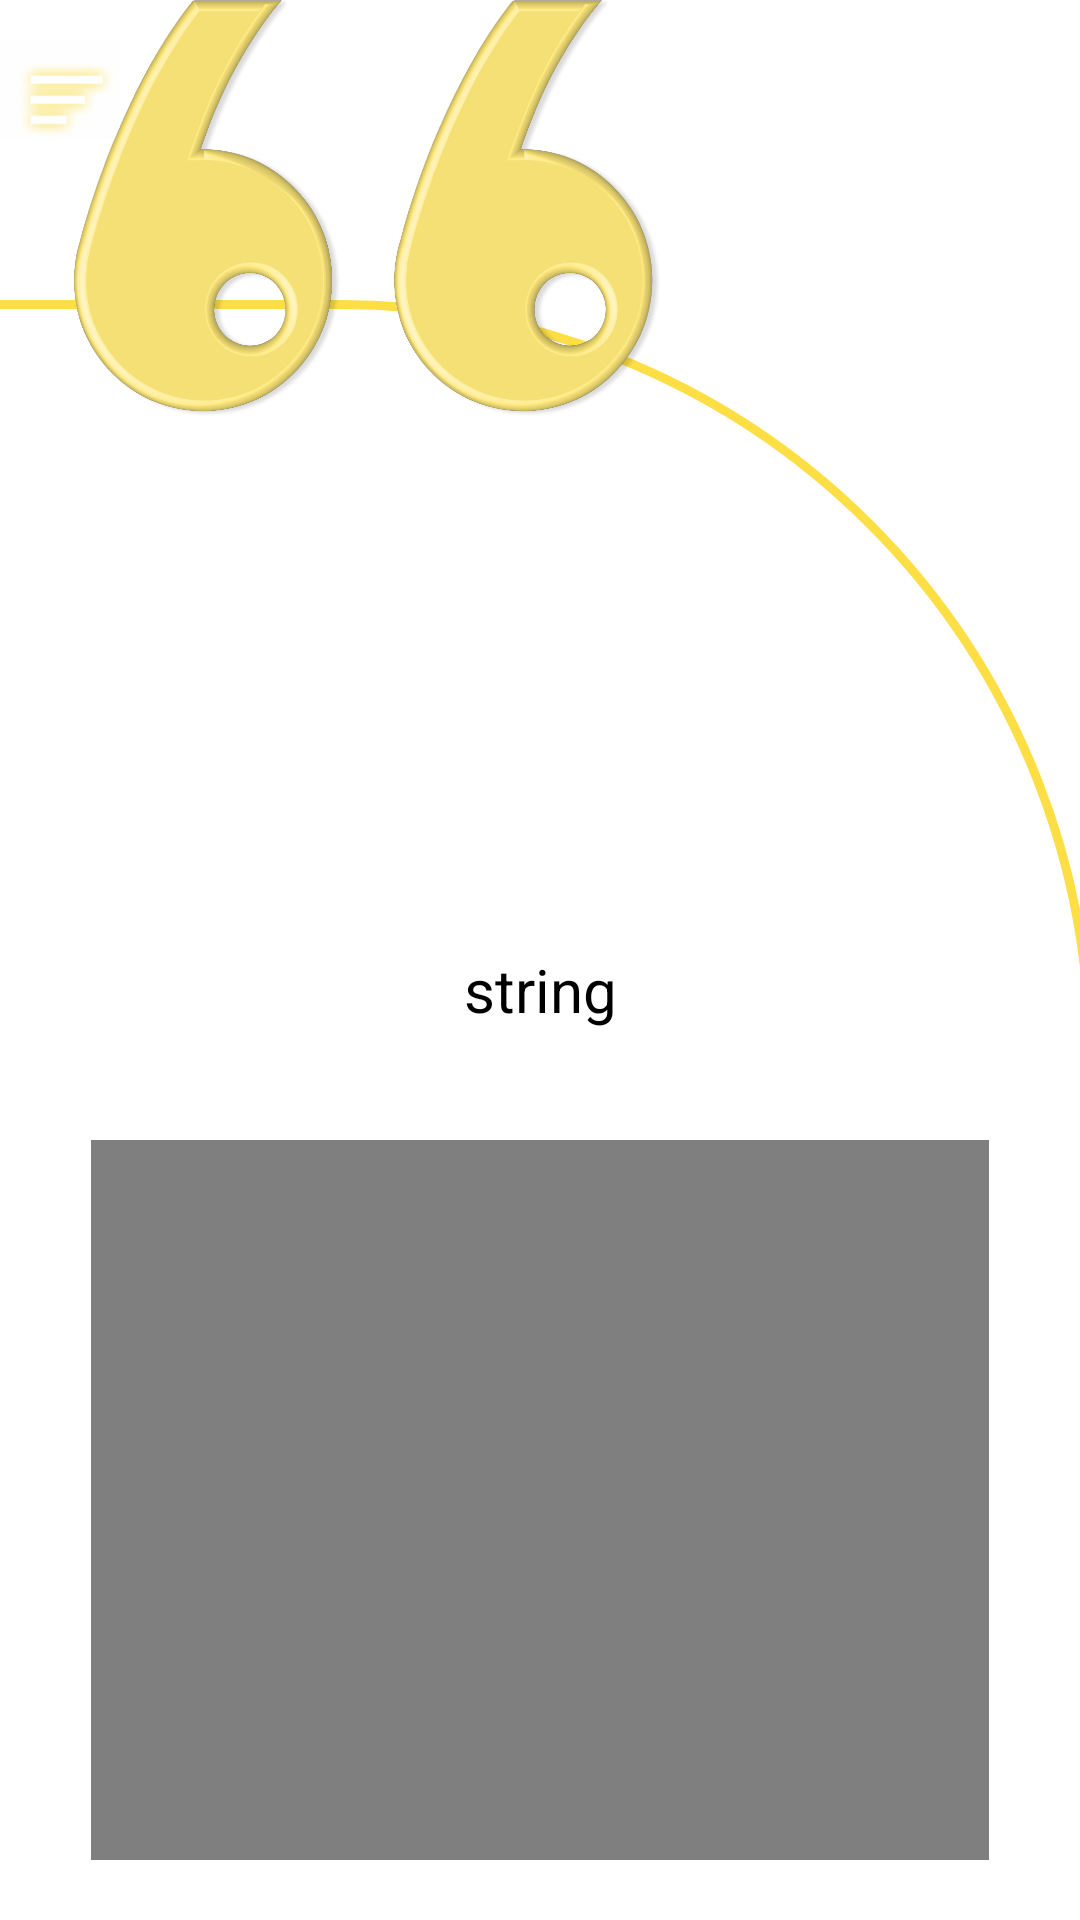

Screen size 1080*1920. Icon name, then its center in pixels as point (x, y):
menu: point (67, 99)
